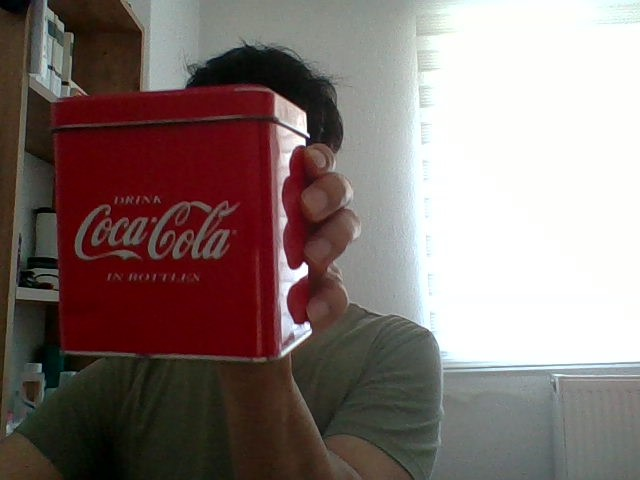CocaColaBox: (52, 97, 311, 356)
